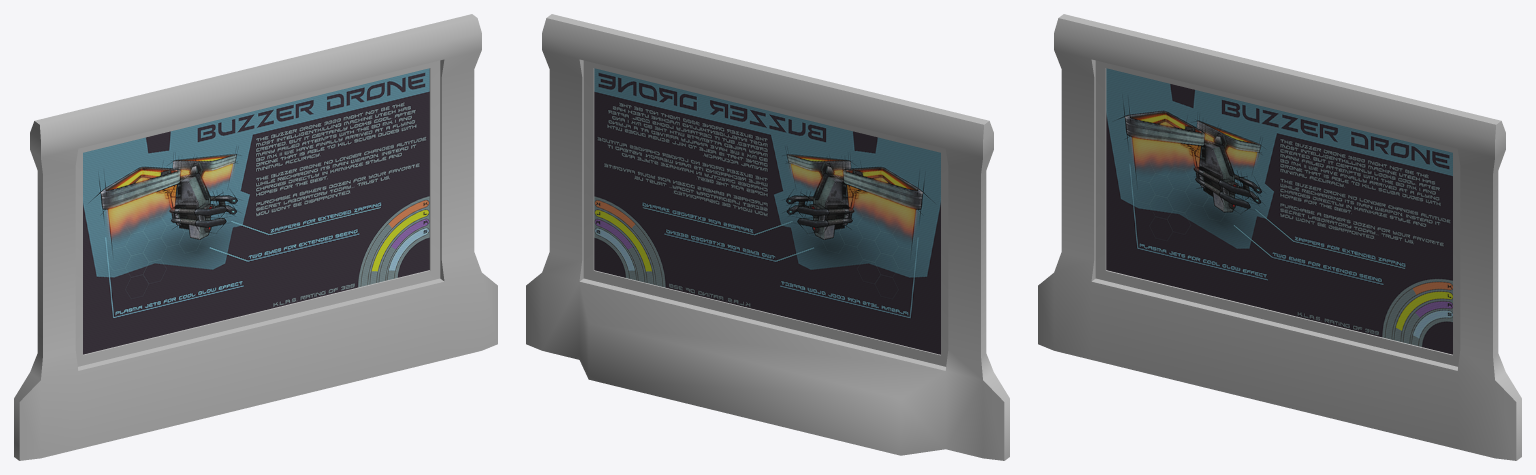
Rendered from LargeDisplay_3.fbx.
The picture shows the model from 3 angles, left to right: view 1: azimuth 30°, elevation 25°; view 2: azimuth 150°, elevation 25°; view 3: azimuth 330°, elevation 25°; orthographic projection.
Visible parts, largest first — view 1: polySurface52, Screen; view 2: polySurface52, Screen; view 3: polySurface52, Screen.
Boxes of the visible parts, bbox=[...] form: polySurface52: bbox=[14, 14, 497, 460]; Screen: bbox=[83, 68, 429, 354]; polySurface52: bbox=[526, 14, 1009, 460]; Screen: bbox=[594, 68, 940, 354]; polySurface52: bbox=[1038, 14, 1521, 460]; Screen: bbox=[1106, 68, 1452, 354].
Size of the model in its own units: 10.78 by 7.13 by 1.12.
